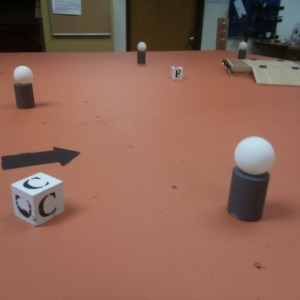blockC: (10, 174, 64, 225)
blockE: (170, 65, 185, 79)
corner: (214, 19, 228, 50)
obstacle: (229, 135, 272, 221), (14, 65, 35, 110), (135, 43, 147, 61), (237, 42, 247, 59)
side: (219, 57, 245, 77)
slope: (248, 65, 300, 86)
start: (1, 143, 82, 173)
